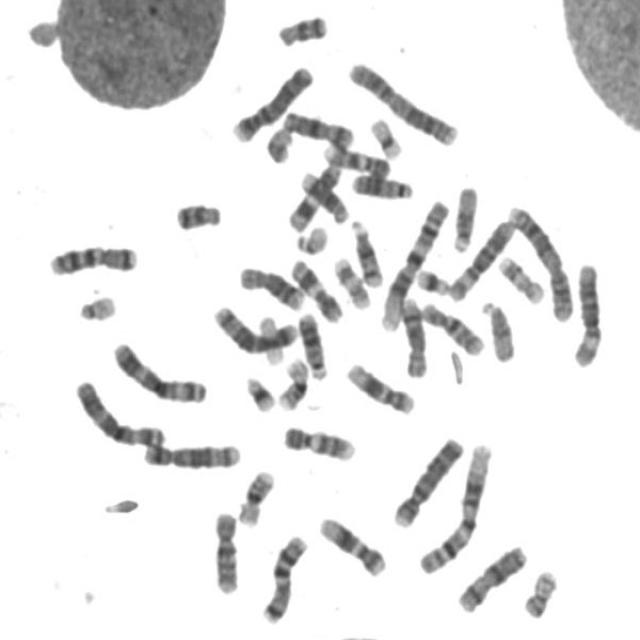A1: (414, 433, 496, 577), (376, 193, 454, 332)
A2: (343, 53, 463, 148), (505, 197, 578, 323)
A3: (70, 371, 170, 449), (108, 334, 212, 405)
B4: (388, 428, 467, 530), (227, 58, 317, 143)
B5: (209, 297, 303, 355), (140, 436, 244, 470)
C10: (417, 294, 489, 357), (208, 502, 244, 596)
C11: (279, 158, 348, 240), (287, 251, 347, 324)
C12: (314, 508, 392, 579), (342, 354, 420, 416)
C6: (446, 211, 518, 303), (568, 255, 607, 369)
C7: (257, 526, 312, 625), (45, 237, 142, 277)
C8: (235, 258, 307, 312), (397, 290, 432, 379)
C9: (278, 418, 360, 463), (318, 137, 393, 180)
D13: (293, 305, 332, 382), (348, 167, 416, 201)
D14: (297, 164, 352, 226), (347, 212, 387, 289)
D15: (478, 292, 520, 364), (449, 177, 482, 254)
E16: (234, 463, 278, 527), (273, 350, 313, 411)
E17: (494, 247, 549, 305), (330, 249, 374, 310)
E18: (273, 6, 332, 48), (171, 194, 225, 232)
F19: (366, 110, 407, 161), (253, 308, 288, 366)
F20: (519, 561, 562, 620), (262, 119, 296, 164)
G21: (241, 369, 280, 413), (411, 260, 453, 297)
G22: (74, 286, 120, 323), (291, 218, 332, 255)
X: (454, 537, 532, 614), (280, 103, 356, 149)
